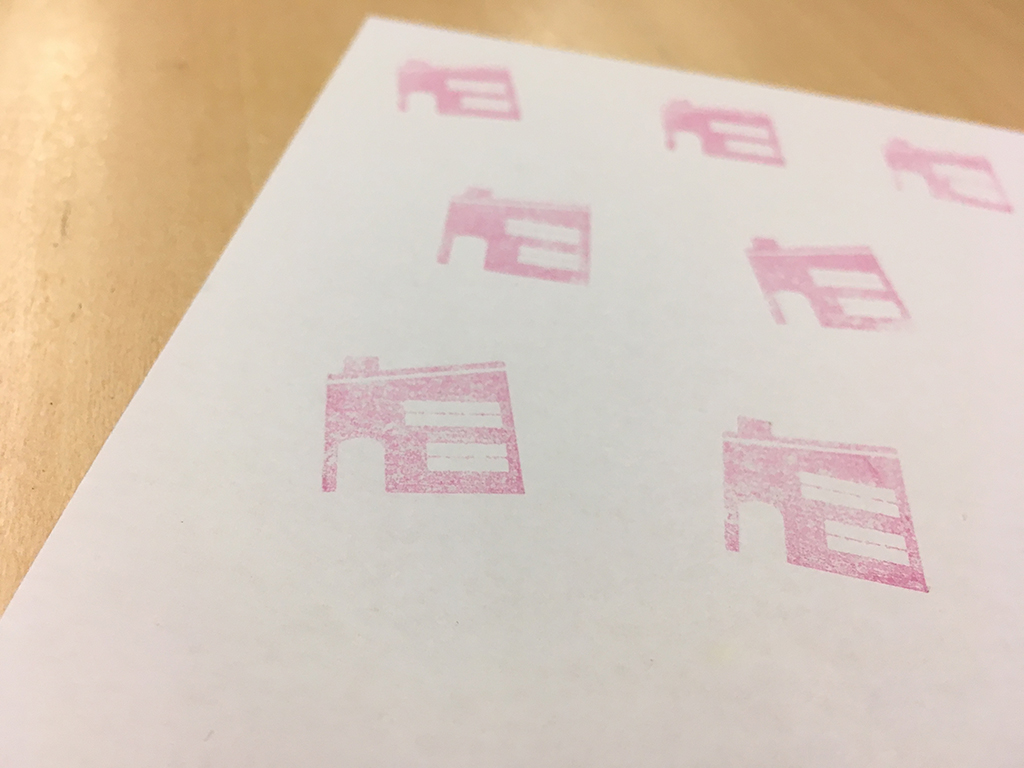house: (708, 403, 947, 608), (312, 339, 546, 515), (430, 166, 606, 307), (716, 228, 929, 344), (633, 92, 806, 179), (374, 47, 538, 136), (871, 135, 1020, 224)
